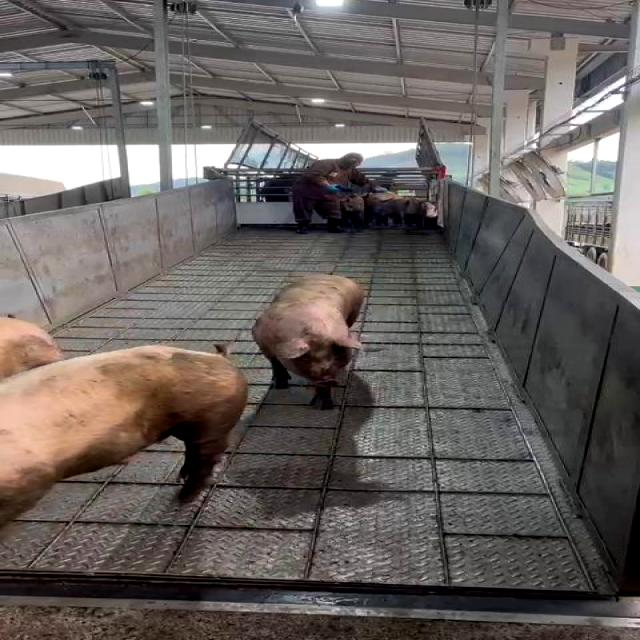pig: (0, 345, 248, 523), (252, 275, 364, 409)
